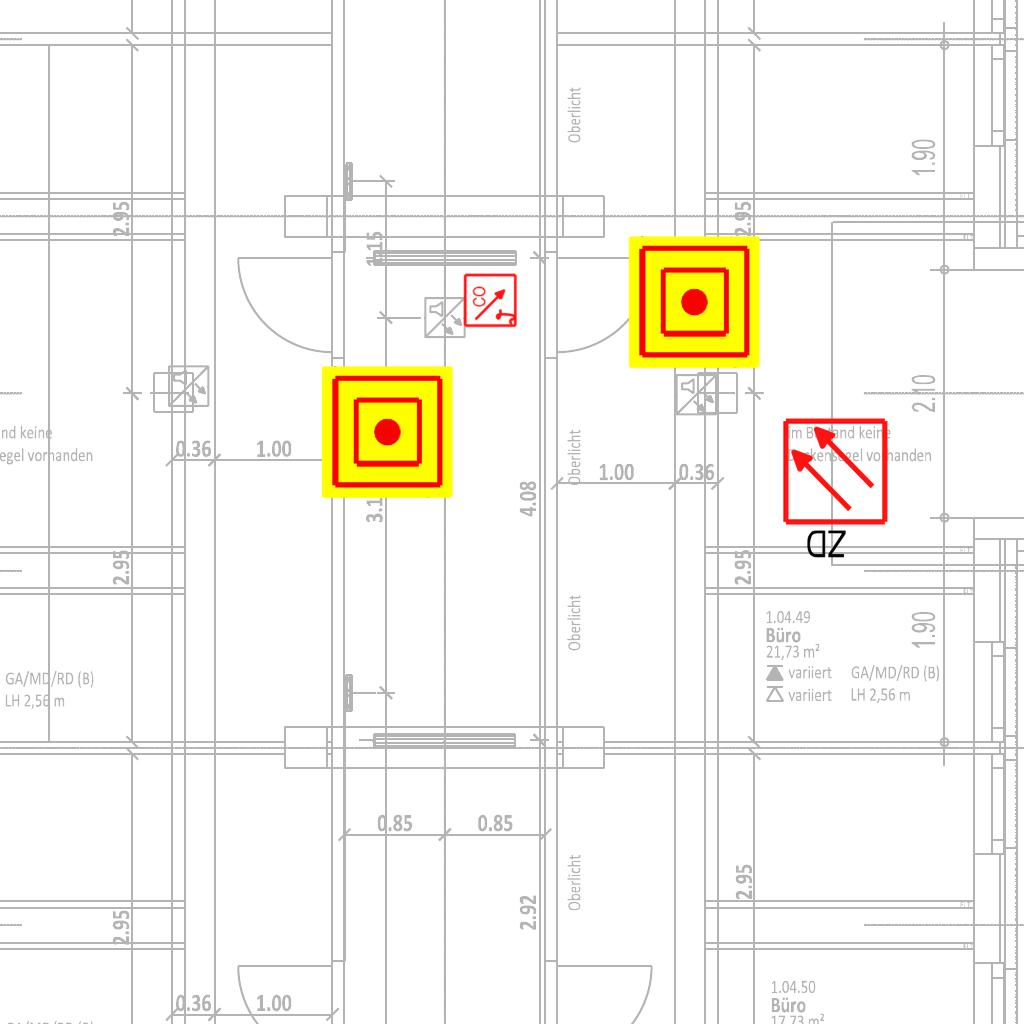NAM-Nichtautomatischer_Melder: (321, 366, 453, 498), (628, 236, 760, 368)
ROA_Rauchmelder_optisch_mit_Signalgeber_(Sockelsirene): (463, 272, 519, 328)
ZD_Melder_in_Zwischendecke_mit_Revisionsoeffnung_mind_40_x_40_cm: (780, 416, 894, 565)
